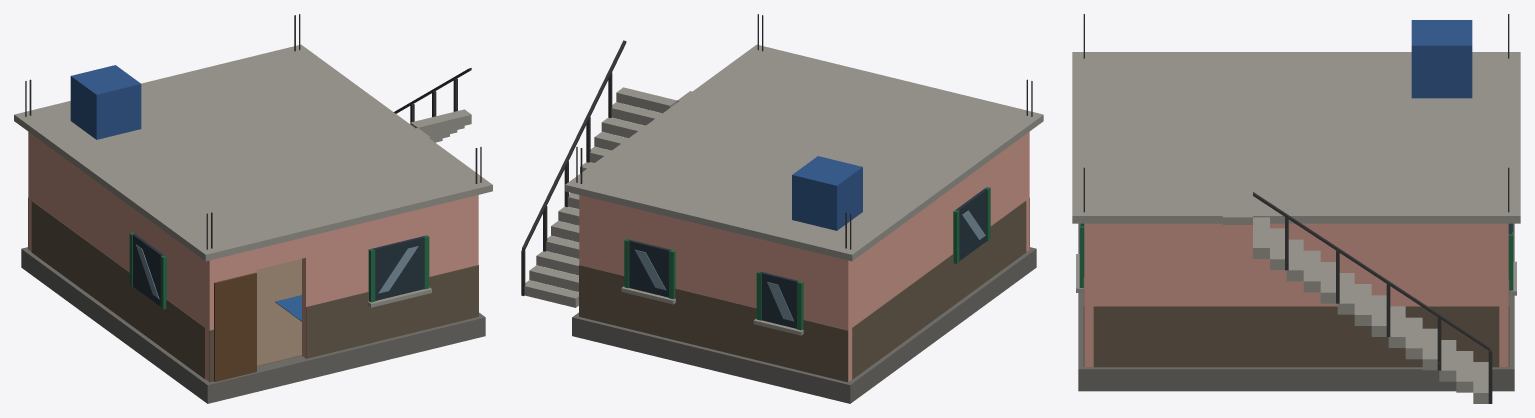
File: casa_laje_b.glb
3 views of the same model, side by side, from view 1: azimuth 30°, elevation 25°; view 2: azimuth 150°, elevation 25°; view 3: azimuth 270°, elevation 25° (orthographic). The views are drawn at different scales.
Parts seen in each view (by area): view 1: casa_laje_b; view 2: casa_laje_b; view 3: casa_laje_b.
Boxes of the visible parts, x1,y1,x2,y2 form: casa_laje_b: (14,14,492,403); casa_laje_b: (521,14,1043,403); casa_laje_b: (1072,14,1520,403).
Size of the model in its own units: 7.65 by 4.24 by 7.4.
